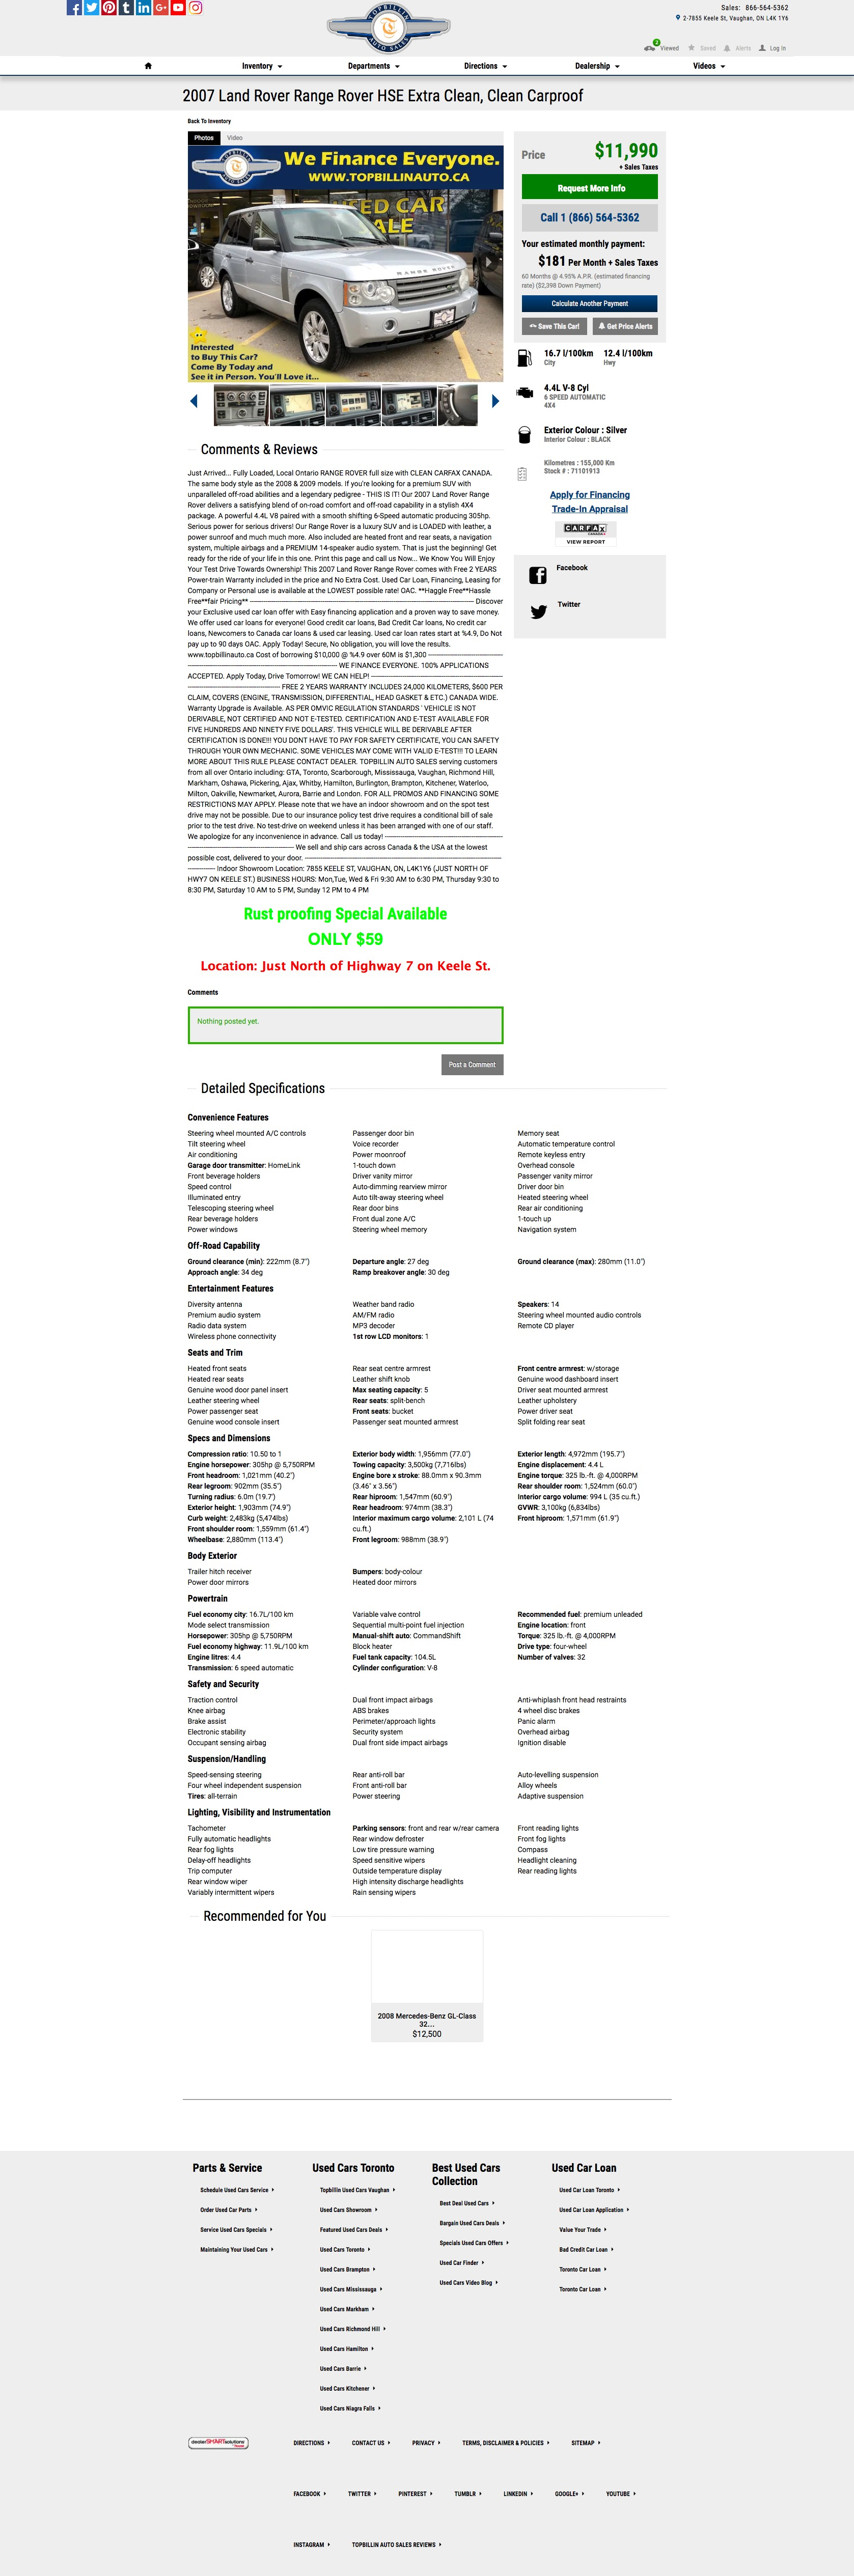car: (493, 394, 499, 409)
